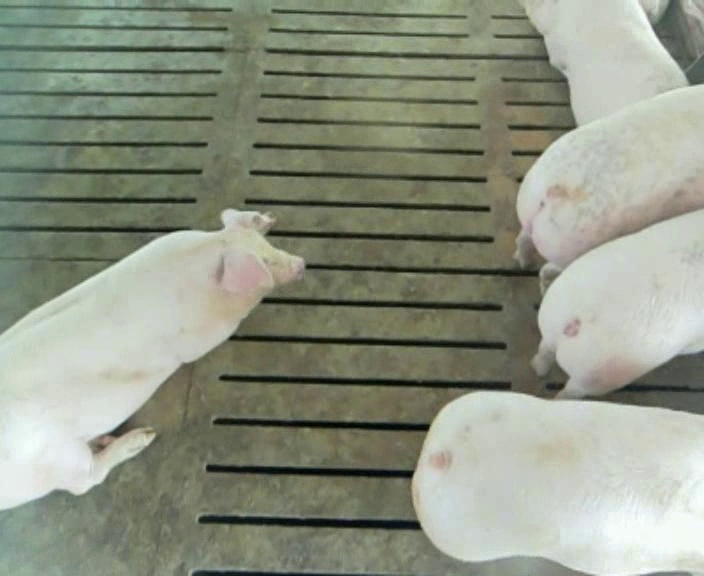pig: (0, 209, 303, 509), (412, 392, 703, 573), (515, 85, 703, 296), (533, 209, 703, 397), (523, 2, 687, 125)
